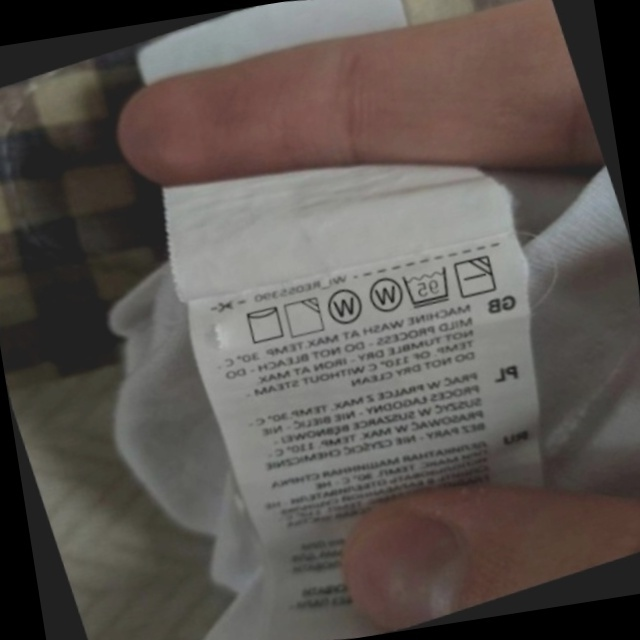95C: (391, 253, 463, 320)
dry_flat_in_shade: (443, 243, 508, 309)
line_dry: (233, 293, 295, 355)
shade_dry: (273, 286, 335, 349)
wet_clean: (354, 263, 414, 325), (315, 276, 375, 338)
